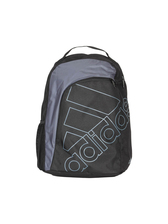bag: (28, 42, 142, 183)
